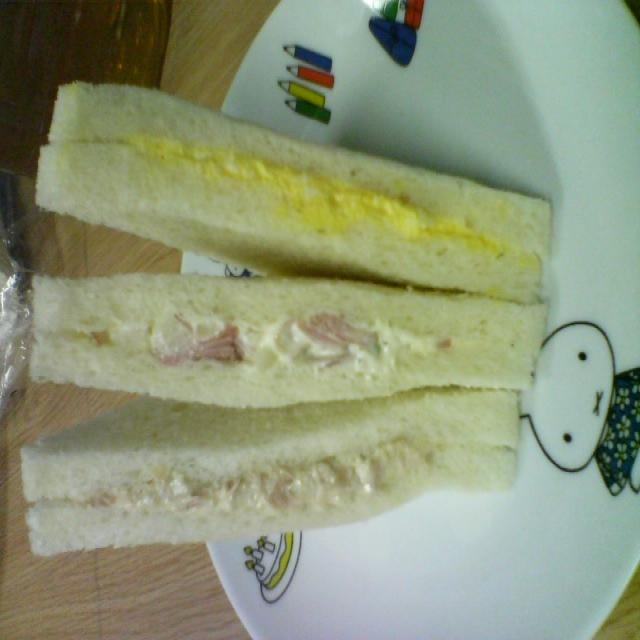三明治: (4, 48, 573, 560)
